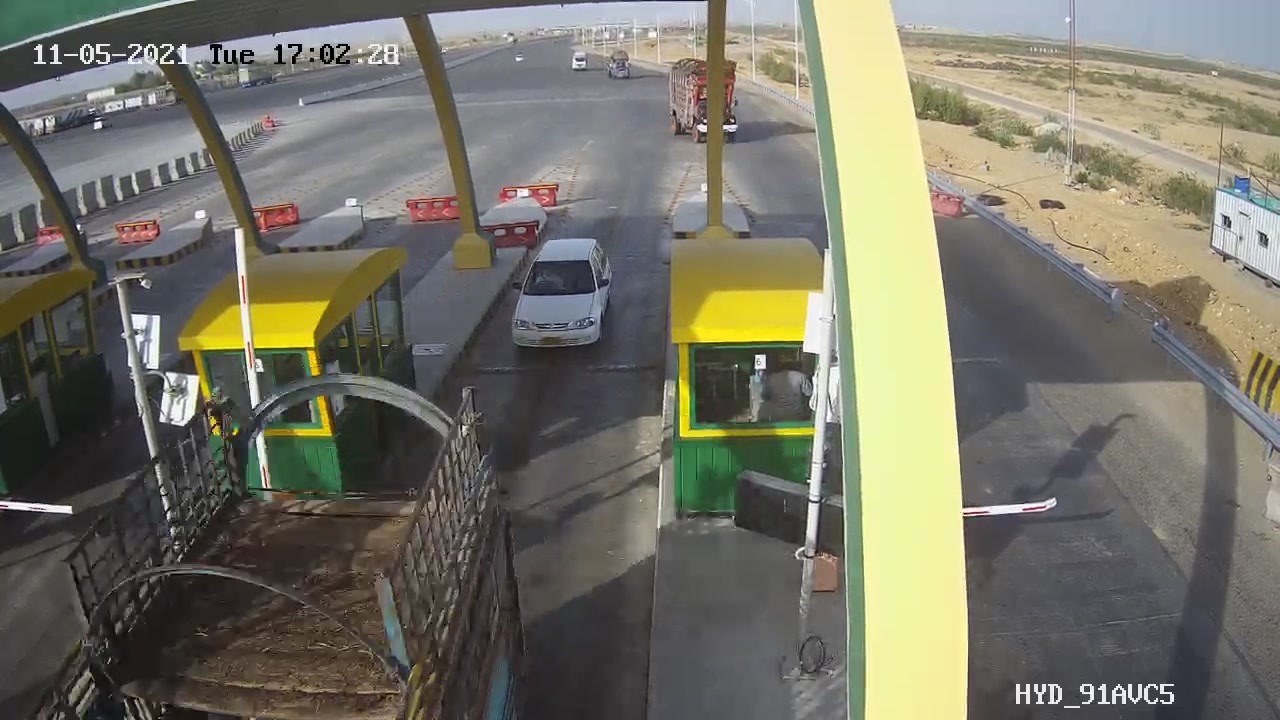F1: (490, 225, 630, 373)
